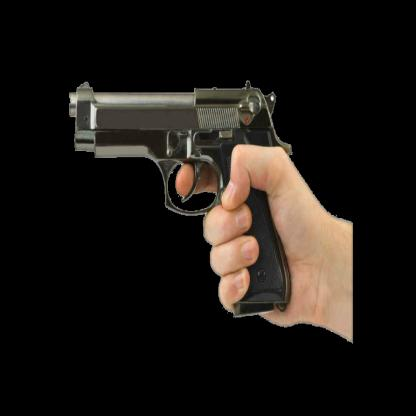handgun: (70, 80, 289, 318)
